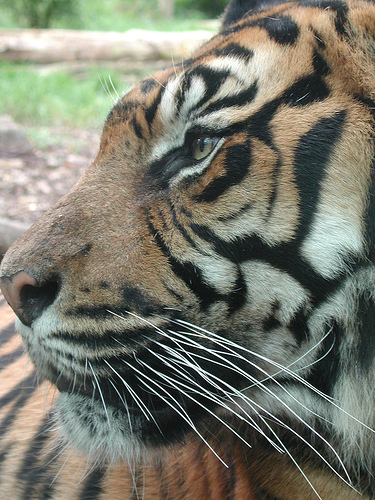Tigre: (21, 30, 373, 418)
